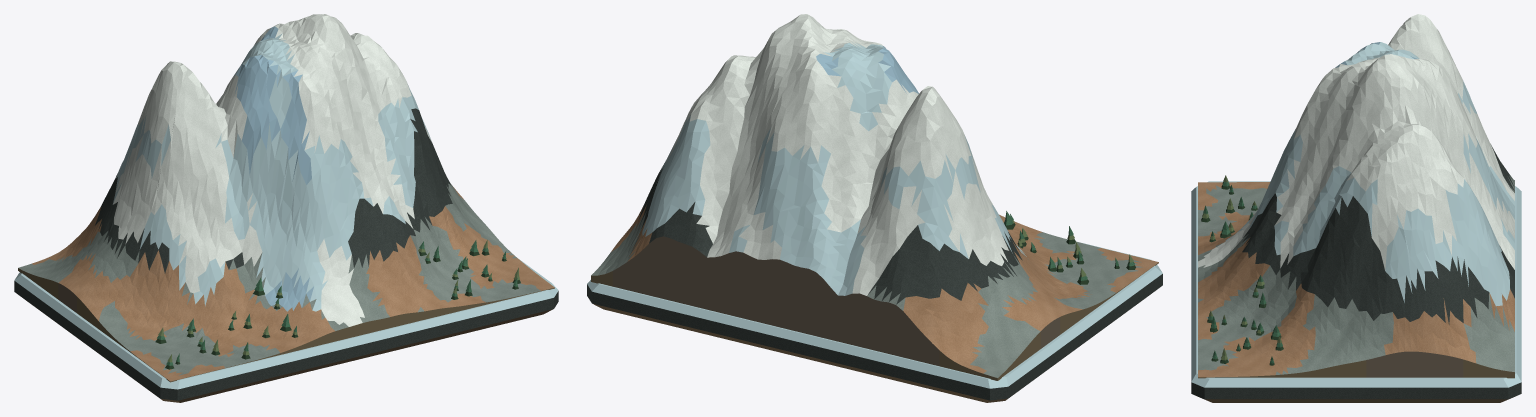
File: yulong.glb
The picture shows the model from 3 angles, left to right: view 1: azimuth 30°, elevation 25°; view 2: azimuth 150°, elevation 25°; view 3: azimuth 270°, elevation 25°; orthographic projection. The views are drawn at different scales.
Visible parts, largest first — view 1: 玉龙雪山; view 2: 玉龙雪山; view 3: 玉龙雪山.
Part boxes in pixels (x1,y1,x2,y2): 玉龙雪山: [14, 14, 558, 402]; 玉龙雪山: [587, 14, 1162, 402]; 玉龙雪山: [1191, 14, 1521, 402].
Bounding box in the file's own units: 6.15 × 3.91 × 4.25.
13 materials, 6 textured.
